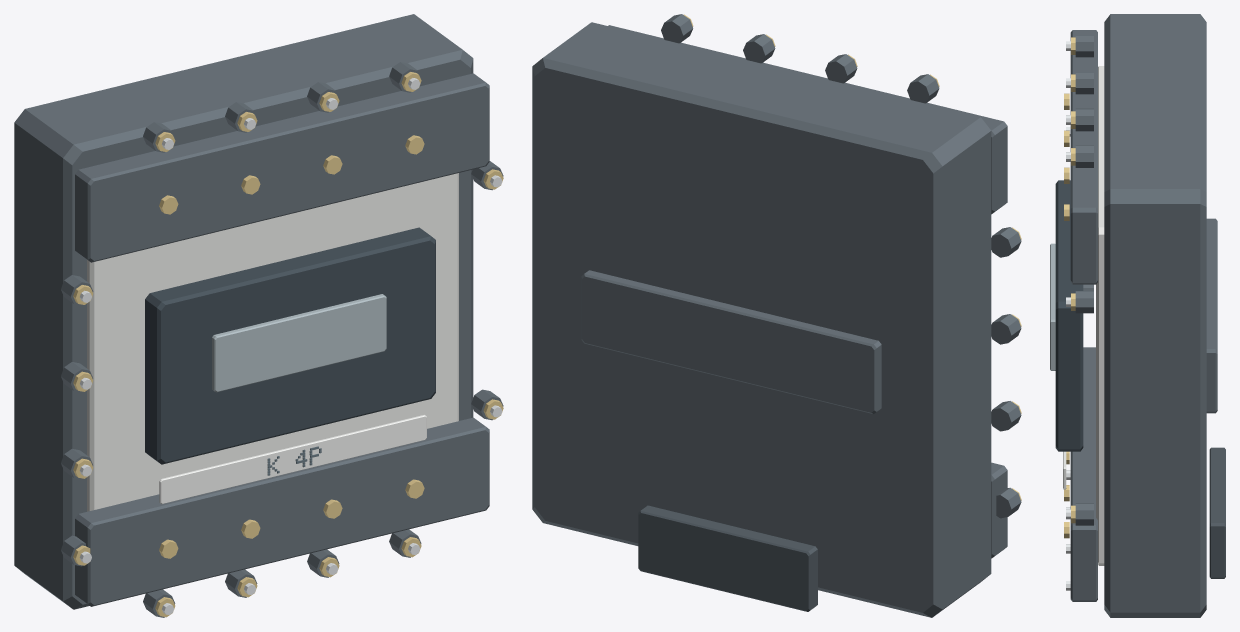
Rendered from contactor4P.glb.
3 views of the same model, side by side, from view 1: azimuth 30°, elevation 25°; view 2: azimuth 150°, elevation 25°; view 3: azimuth 270°, elevation 25° (orthographic). The views are drawn at different scales.
Visible parts, largest first — view 1: contactor4P-board; view 2: contactor4P-board; view 3: contactor4P-board.
Boxes of the visible parts, x1,y1,x2,y2 form: contactor4P-board: (14,14,503,617); contactor4P-board: (532,14,1021,617); contactor4P-board: (1050,14,1225,617).
Size of the model in its own units: 3.69 by 3.98 by 1.41.
